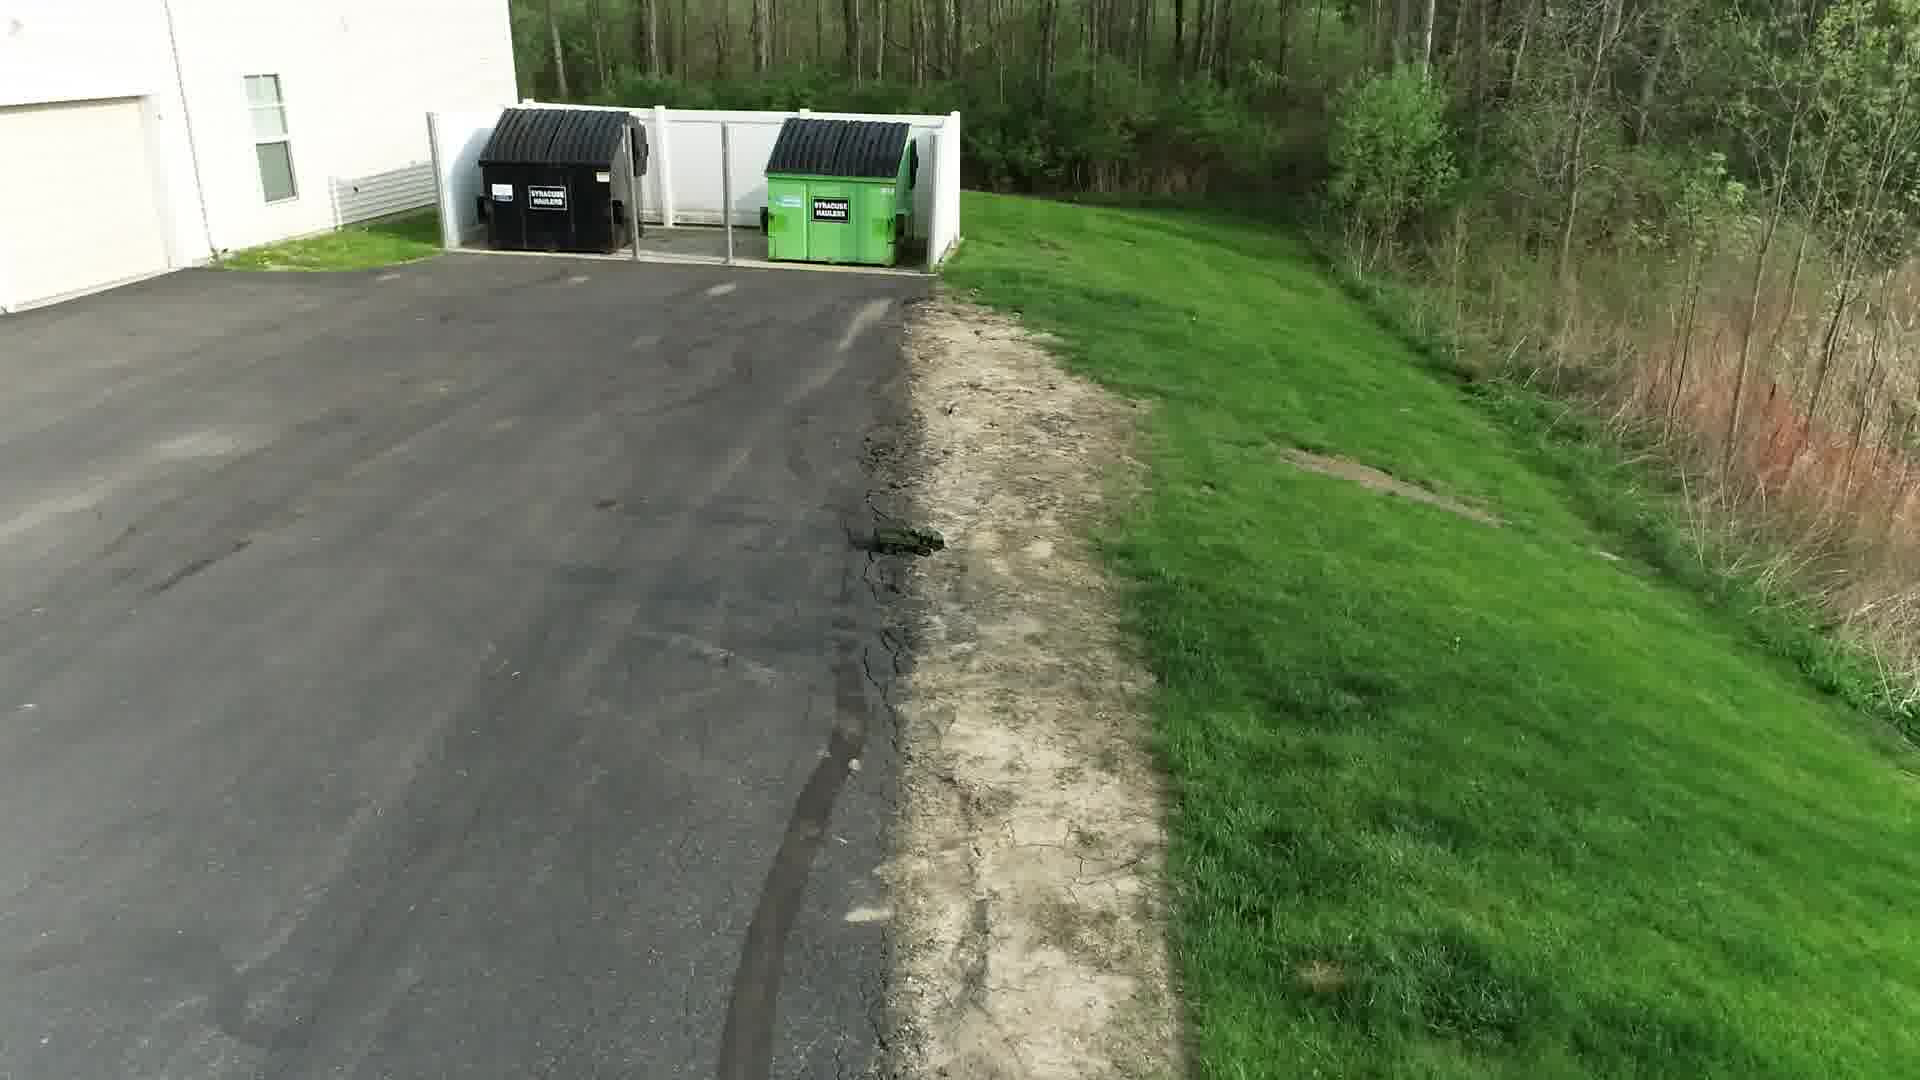transporter9: (870, 524, 948, 554)
